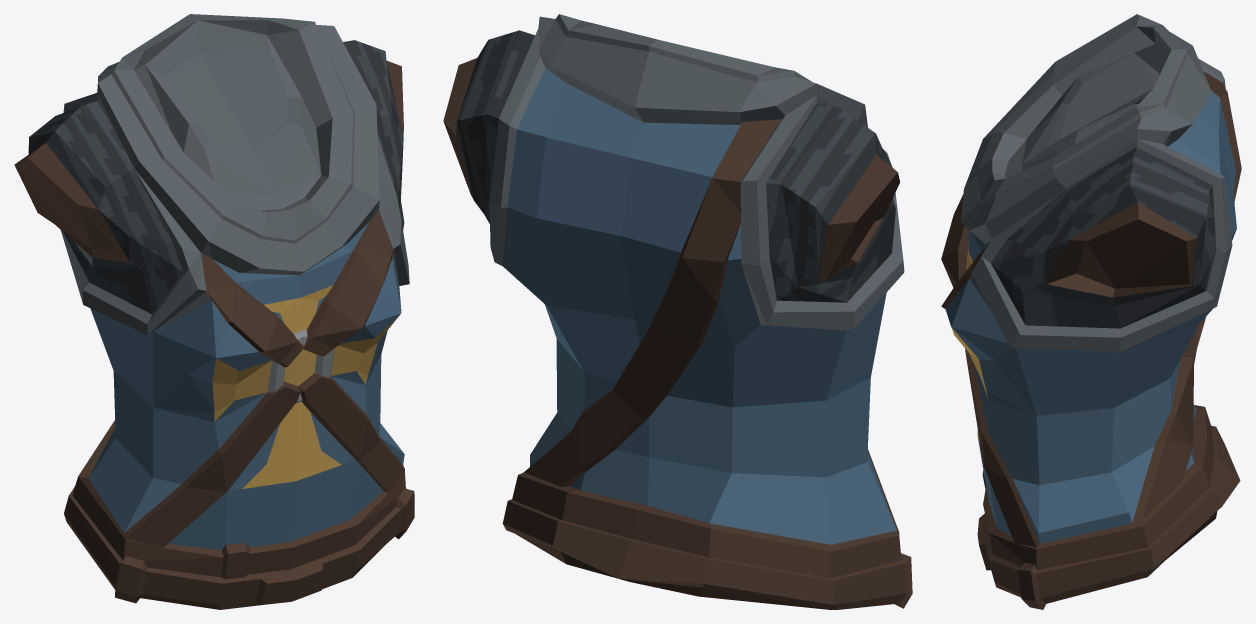
Rendered from Chr_Torso_Female_10_Static.fbx.
3 views of the same model, side by side, from view 1: azimuth 30°, elevation 25°; view 2: azimuth 150°, elevation 25°; view 3: azimuth 270°, elevation 25° (orthographic). The views are drawn at different scales.
Visible parts, largest first — view 1: Chr_Torso_Female_10_Static; view 2: Chr_Torso_Female_10_Static; view 3: Chr_Torso_Female_10_Static.
Boxes of the visible parts, bbox=[...] form: Chr_Torso_Female_10_Static: bbox=[14, 14, 414, 609]; Chr_Torso_Female_10_Static: bbox=[443, 14, 912, 609]; Chr_Torso_Female_10_Static: bbox=[941, 14, 1241, 609].
Size of the model in its own units: 0.5172 by 0.6834 by 0.362.
